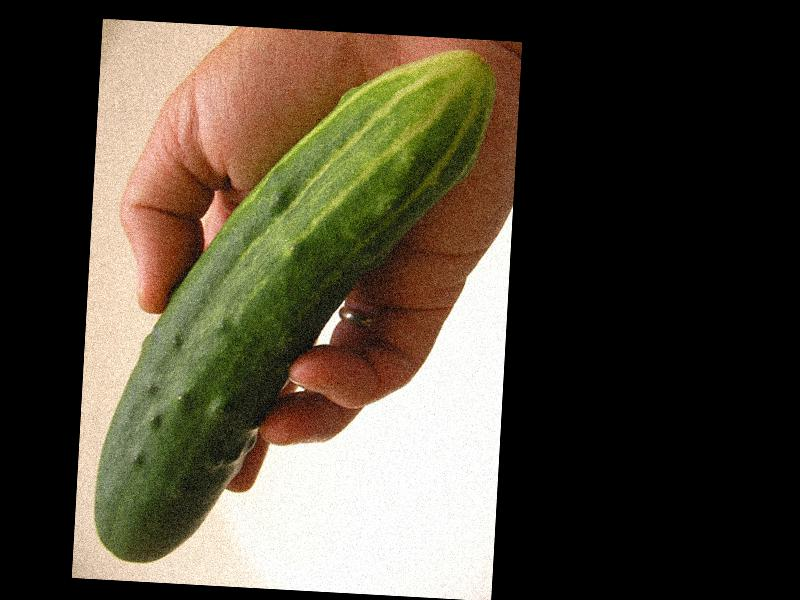Cucumber: (93, 33, 497, 581)
